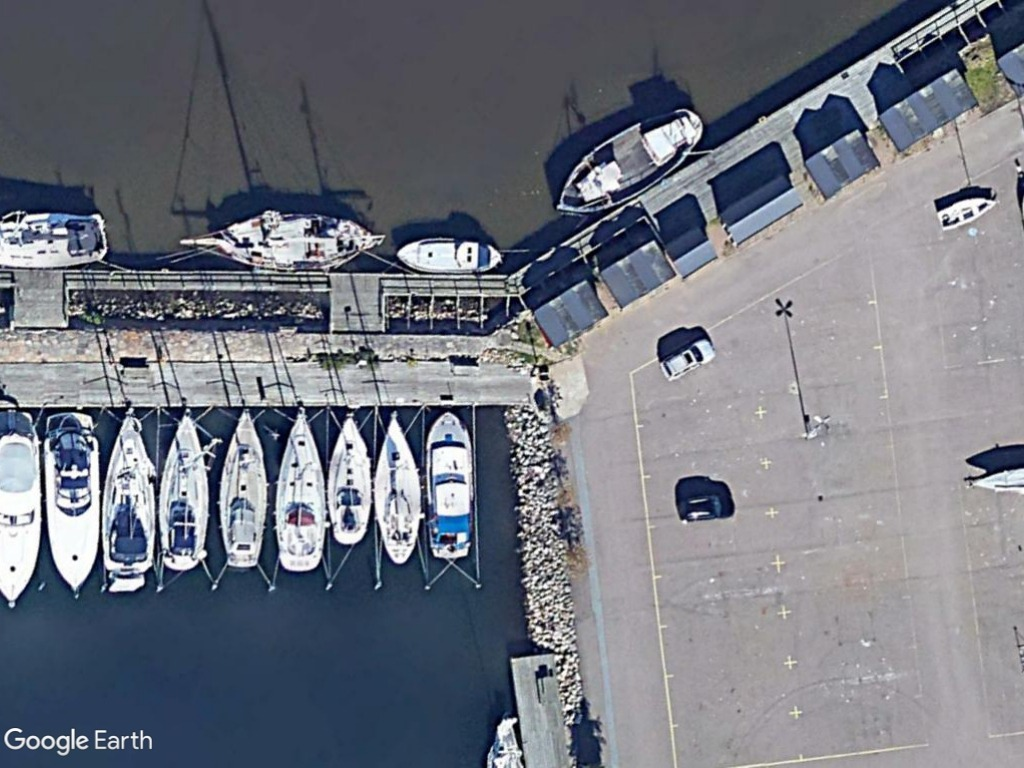boat: (545, 107, 707, 222), (179, 202, 383, 280), (37, 409, 107, 597), (151, 407, 212, 572), (270, 404, 328, 577), (99, 404, 156, 577), (214, 406, 272, 570), (421, 406, 477, 567), (371, 406, 422, 570), (323, 409, 374, 550), (391, 235, 506, 277)
car: (653, 336, 724, 386), (672, 492, 740, 528)
